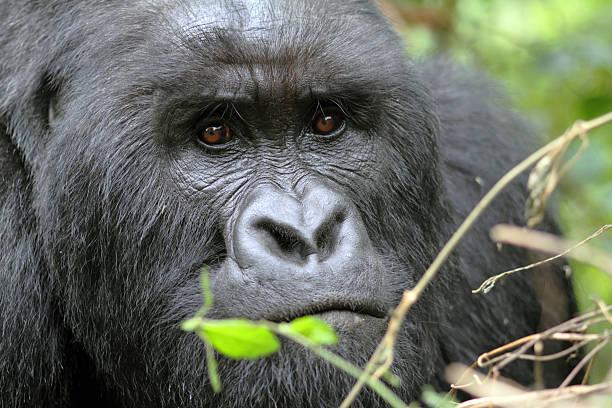goriile_montagne: (7, 0, 565, 408)
